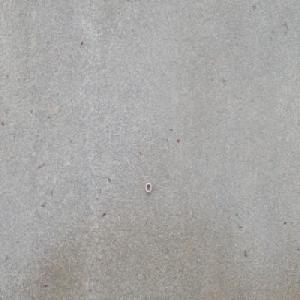Nut: (145, 181, 152, 194)
